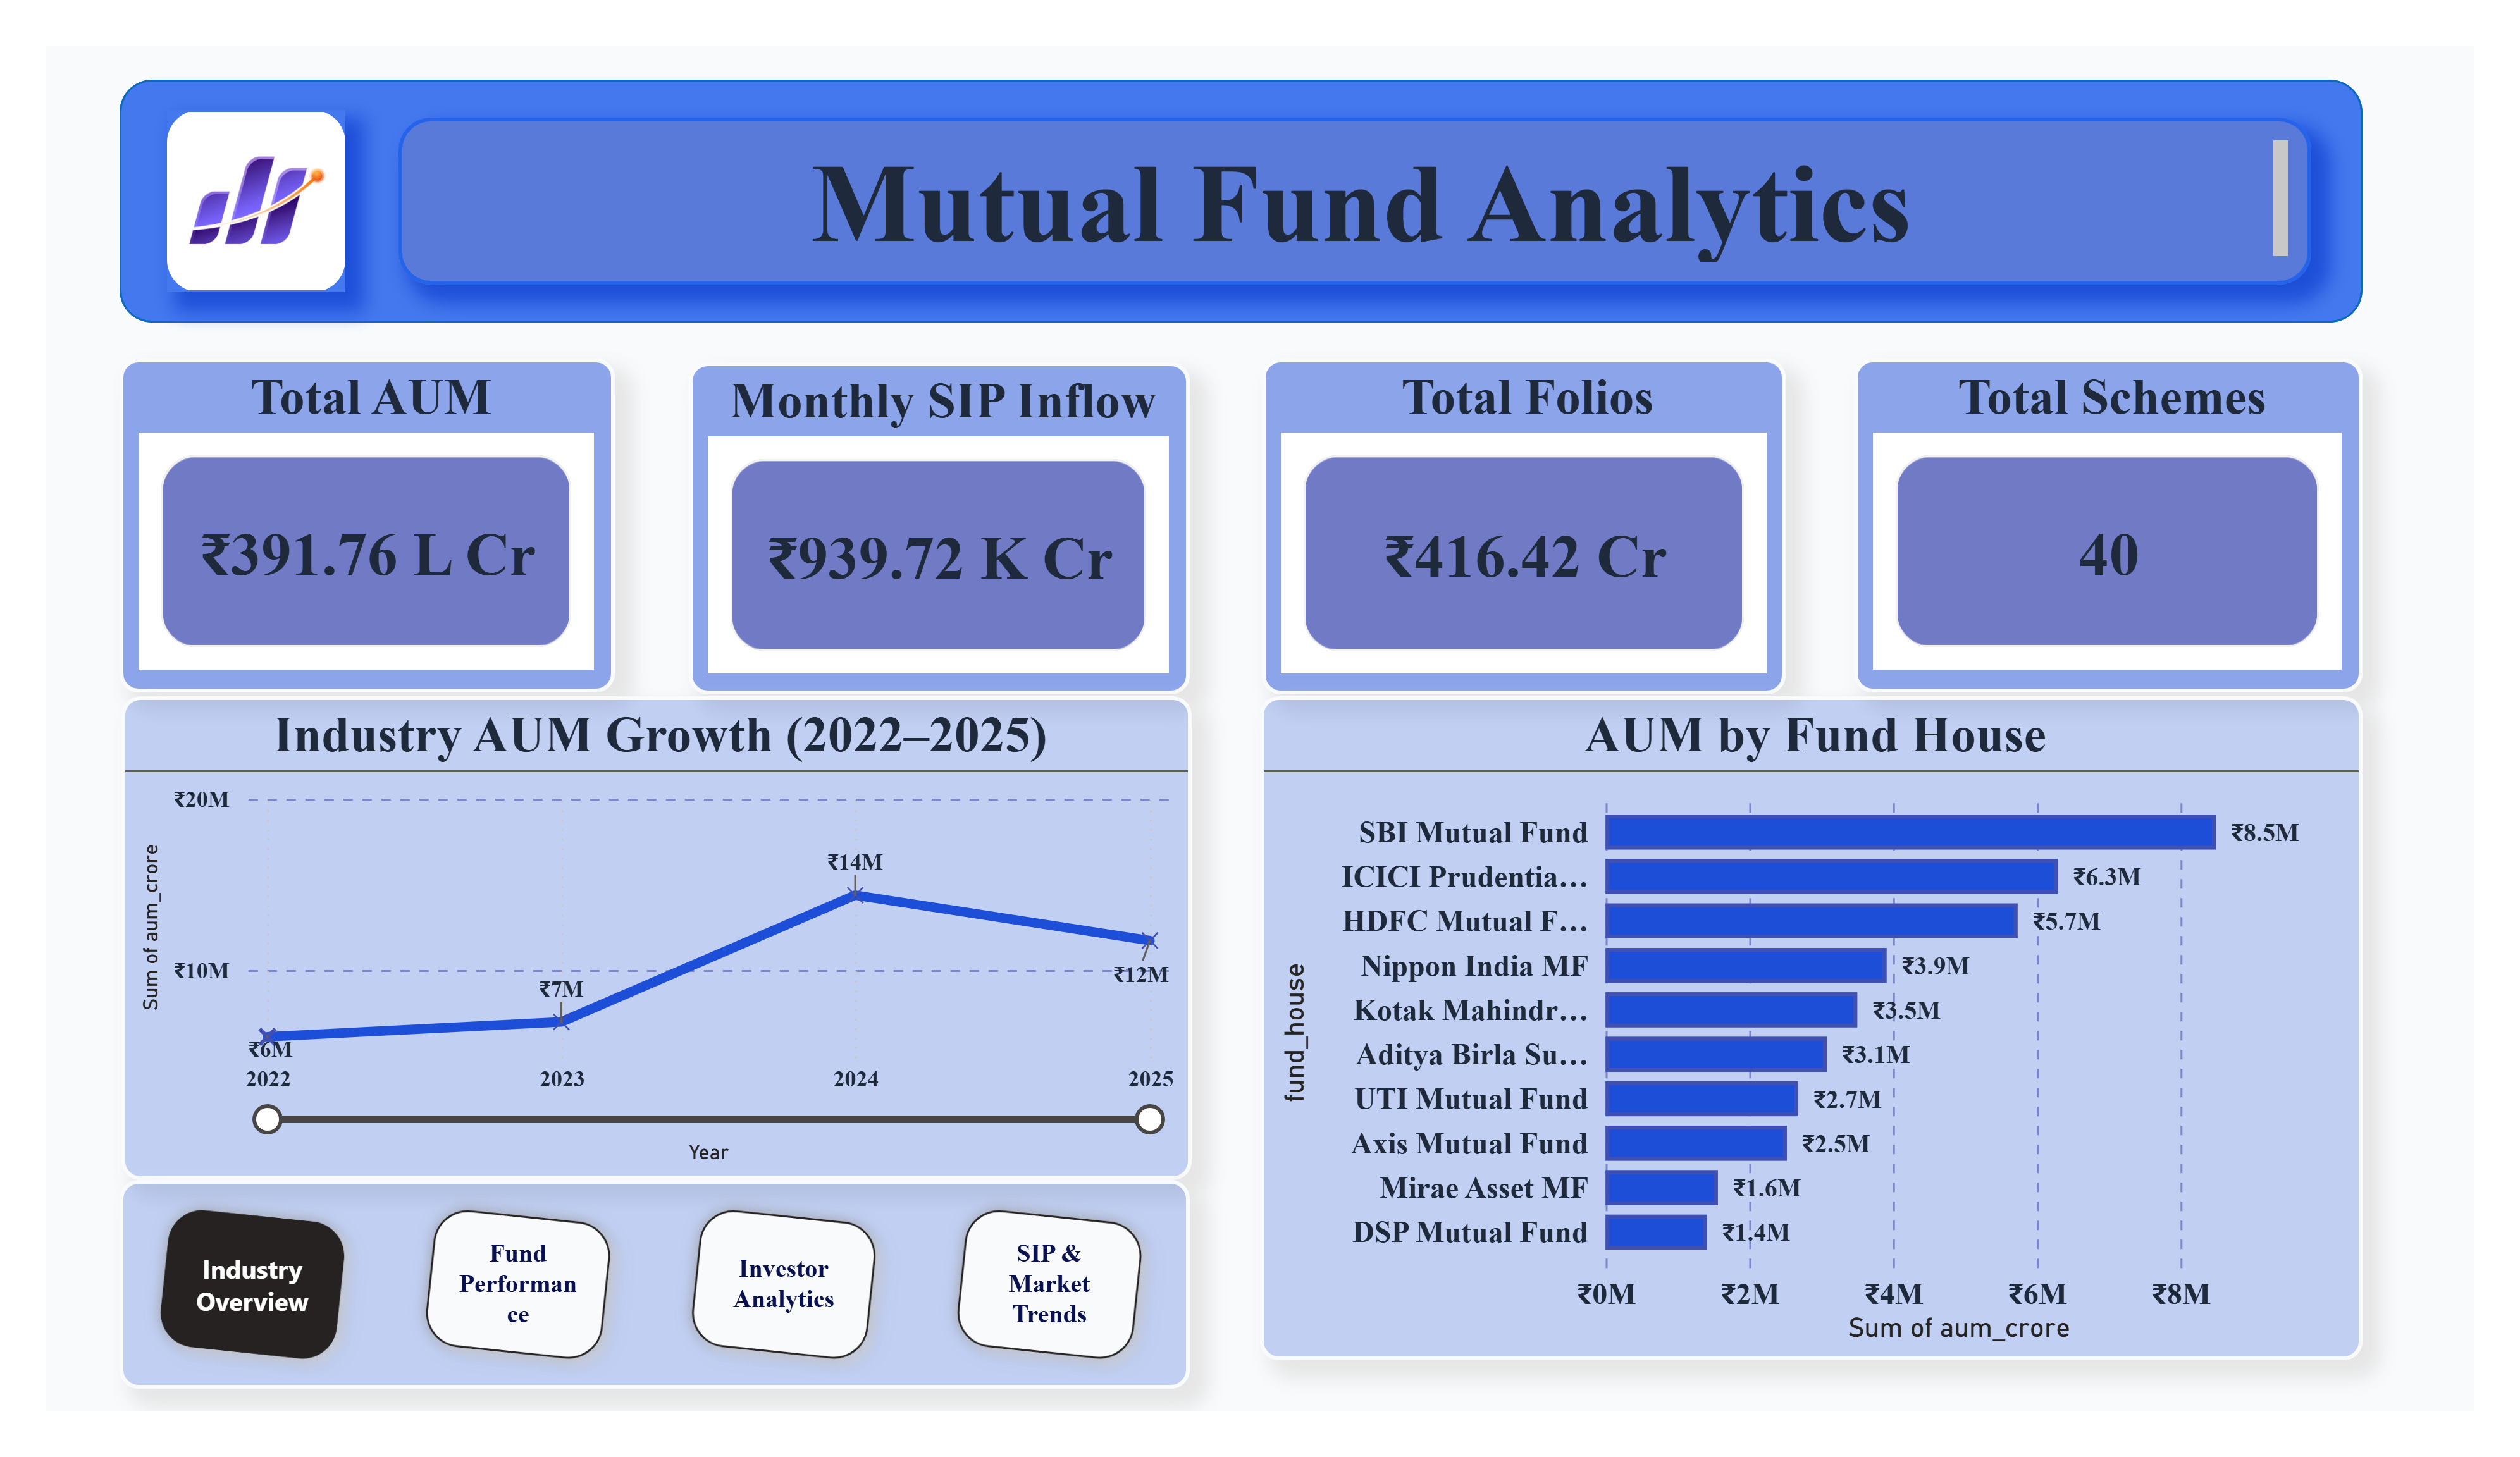

The page's visual inventory and layout, read from the dashboard file:
{"tool":"powerbi","page":{"name":"Industry Overview","canvas":[1280,720],"ordinal":0},"visuals":[{"type":"cardVisual","title":"Total AUM","fields":{"Data":["aum_clean.AUM Card"]},"box":[39.2,165.4,260.7,175.2],"z":0},{"type":"cardVisual","title":"Monthly SIP Inflow","fields":{"Data":["sip_clean.SIP Card"]},"box":[339.2,166.8,263.5,175.2],"z":1000},{"type":"cardVisual","title":"Total Folios","fields":{"Data":["folio_clean.Folios Card"]},"box":[640.5,165.4,276.1,176.6],"z":2000},{"type":"cardVisual","title":"Total Schemes","fields":{"Data":["fund_master_clean.Schemes Card"]},"box":[953.1,165.4,267.7,175.2],"z":3000},{"type":"lineChart","title":"Industry AUM Growth (2022–2025)","fields":{"Category":["aum_clean.date.Variation.Date Hierarchy.Year"],"Y":["Sum(aum_clean.aum_crore)"]},"box":[40.4,343.2,563.7,254.7],"z":4000},{"type":"barChart","title":"AUM by Fund House","fields":{"Category":["aum_clean.fund_house"],"Y":["Sum(aum_clean.aum_crore)"]},"box":[639.8,343.2,580.8,349.4],"z":5000},{"type":"shape","box":[39.2,18.2,1181.5,127.5],"z":6000},{"type":"image","box":[64.5,33.6,93.9,96.7],"z":7000},{"type":"textbox","box":[186.4,37.8,1007.7,88.3],"z":8000},{"type":"pageNavigator","box":[38.8,597.9,563.7,110.3],"z":8001}]}

Visuals, with their boxes in screenshot pixels (x1, y1, x2, y2), scaled from the page's 1280x720 canvas onto the 2520x1457 screenshot:
"Total AUM" cardVisual: <box>77,335,590,689</box>
"Monthly SIP Inflow" cardVisual: <box>668,338,1187,692</box>
"Total Folios" cardVisual: <box>1261,335,1805,692</box>
"Total Schemes" cardVisual: <box>1877,335,2404,689</box>
"Industry AUM Growth (2022–2025)" lineChart: <box>80,694,1189,1210</box>
"AUM by Fund House" barChart: <box>1259,694,2403,1401</box>
shape: <box>77,37,2403,295</box>
image: <box>127,68,312,264</box>
textbox: <box>367,77,2351,255</box>
pageNavigator: <box>77,1210,1186,1433</box>
